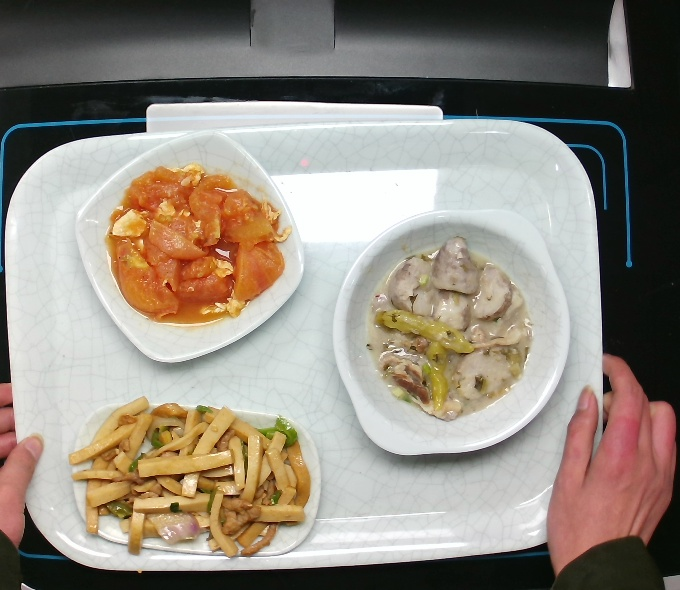wcq-FanQieChaoDan: (107, 162, 300, 328)
wcq-QianYeDouFu: (66, 395, 317, 561)
wcq-YangYu: (363, 231, 546, 434)
